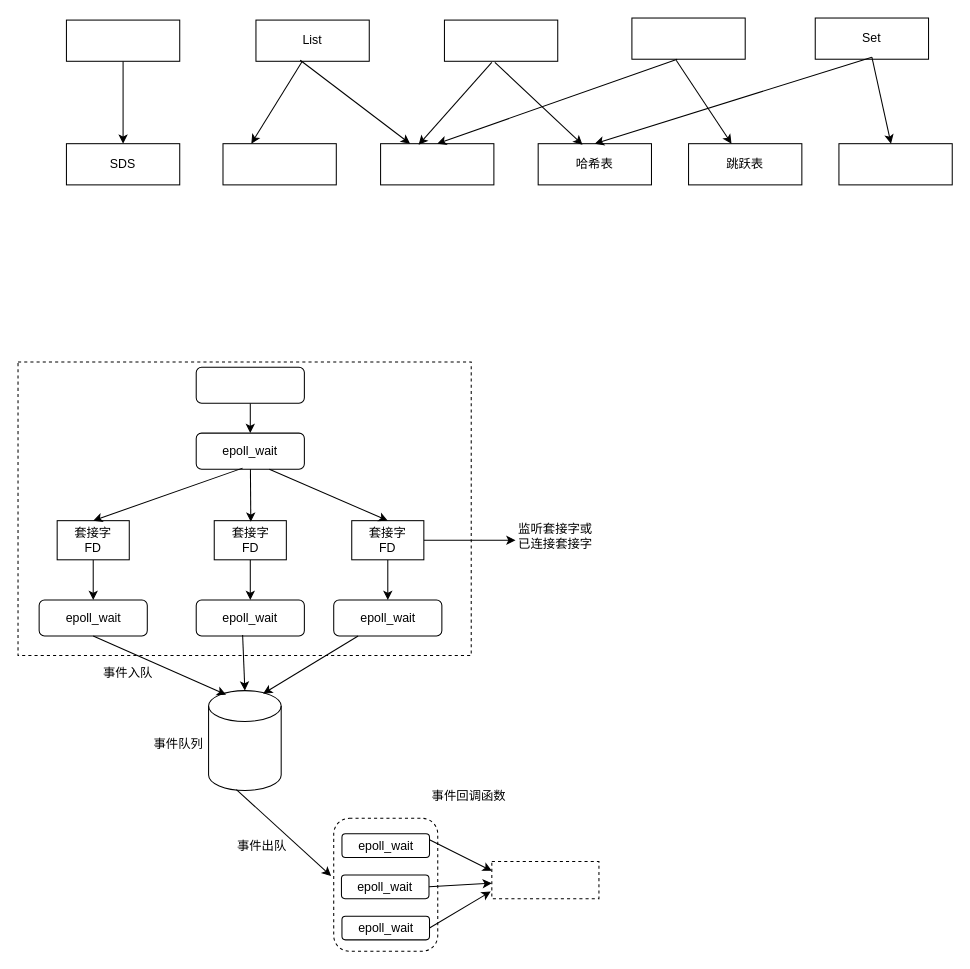
This 970x969 diagram has some shape labels left out. Here are the shapes that lost their labels. From the top down, the box of each, then its label:
(65, 19, 180, 61): String
(443, 19, 558, 61): Hash
(631, 17, 745, 59): Sorted Set
(222, 143, 336, 185): 双向链表
(380, 143, 494, 185): 压缩链表
(838, 143, 952, 185): 整数集合
(195, 366, 304, 403): bind/listen
(491, 861, 599, 899): return
